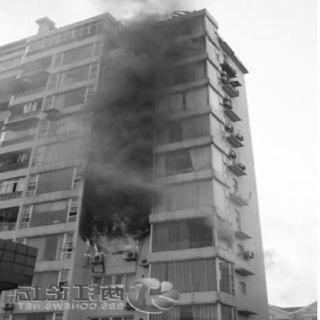Fire: (78, 208, 150, 254)
